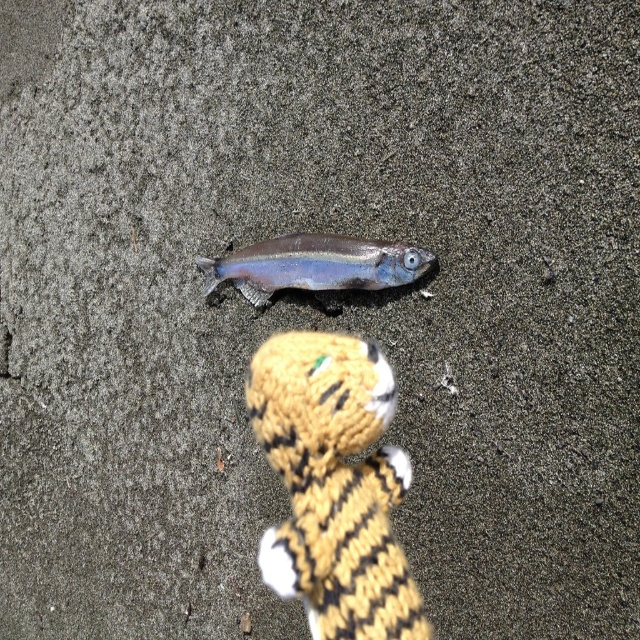Fish: (200, 228, 444, 324)
